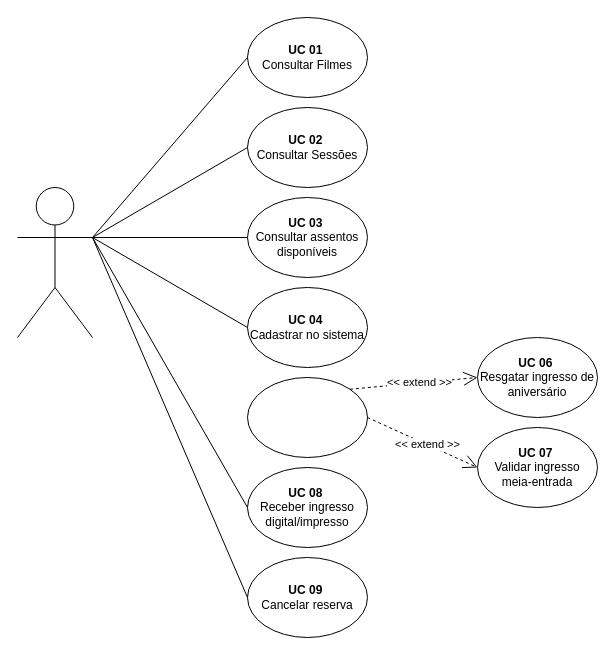
Image size: 615x655. Some labels were removed from this diagram. The centre of each missing label's shape, as x and y in pixels:
"Cliente" belongs at (54,262).
"UC 05 Resgatar ingresso" belongs at (307,417).
